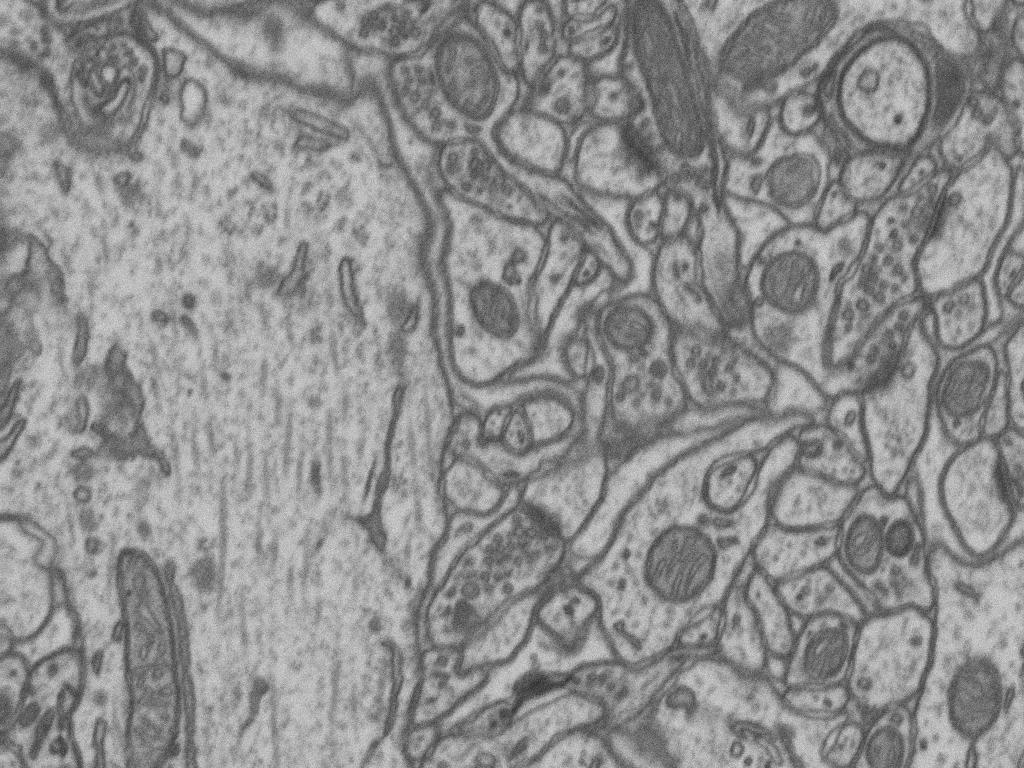mitochondria: (111, 545, 208, 768), (620, 0, 721, 162), (699, 3, 835, 105), (635, 517, 731, 633), (428, 6, 512, 117), (760, 242, 835, 333), (752, 139, 829, 217), (429, 588, 504, 665), (933, 352, 999, 435), (941, 685, 1005, 768), (454, 250, 518, 330), (608, 302, 685, 366), (842, 498, 903, 576), (788, 628, 862, 687), (858, 716, 926, 768), (0, 675, 32, 736)
